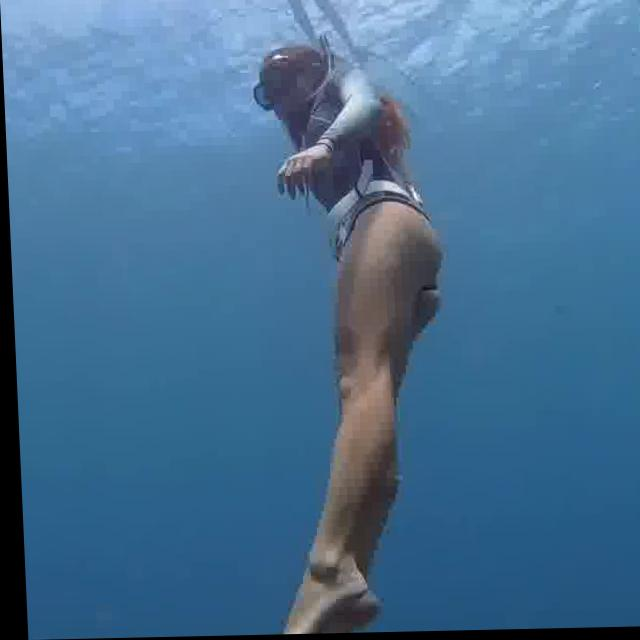human: (209, 29, 464, 636)
